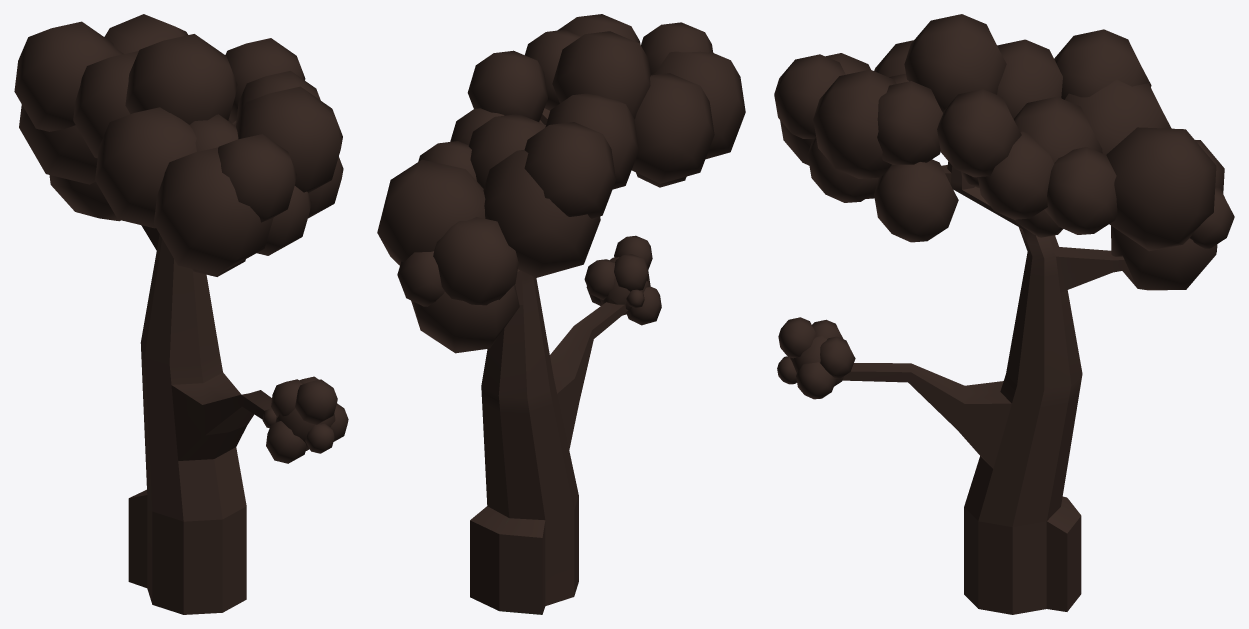
The model's file is LowPoly_puno1.fbx.
3 views of the same model, side by side, from view 1: azimuth 30°, elevation 25°; view 2: azimuth 150°, elevation 25°; view 3: azimuth 270°, elevation 25° (orthographic). The views are drawn at different scales.
Visible parts, largest first — view 1: polySurface1; view 2: polySurface1; view 3: polySurface1.
Boxes of the visible parts, x1=… form: polySurface1: x1=14, y1=14, x2=348, y2=614; polySurface1: x1=377, y1=14, x2=745, y2=614; polySurface1: x1=774, y1=14, x2=1234, y2=614.
Bounding box in the file's own units: 5.15 × 12.59 × 9.51.
Materials: 1 (1 with a texture image).
